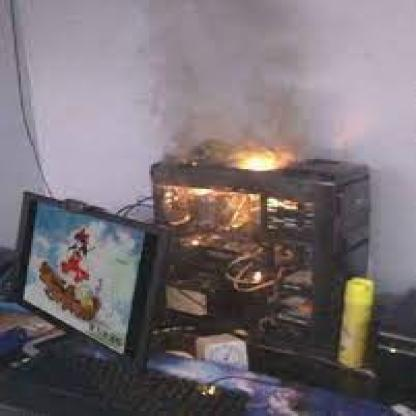fire: (236, 148, 284, 176)
smoke: (138, 2, 327, 163)
